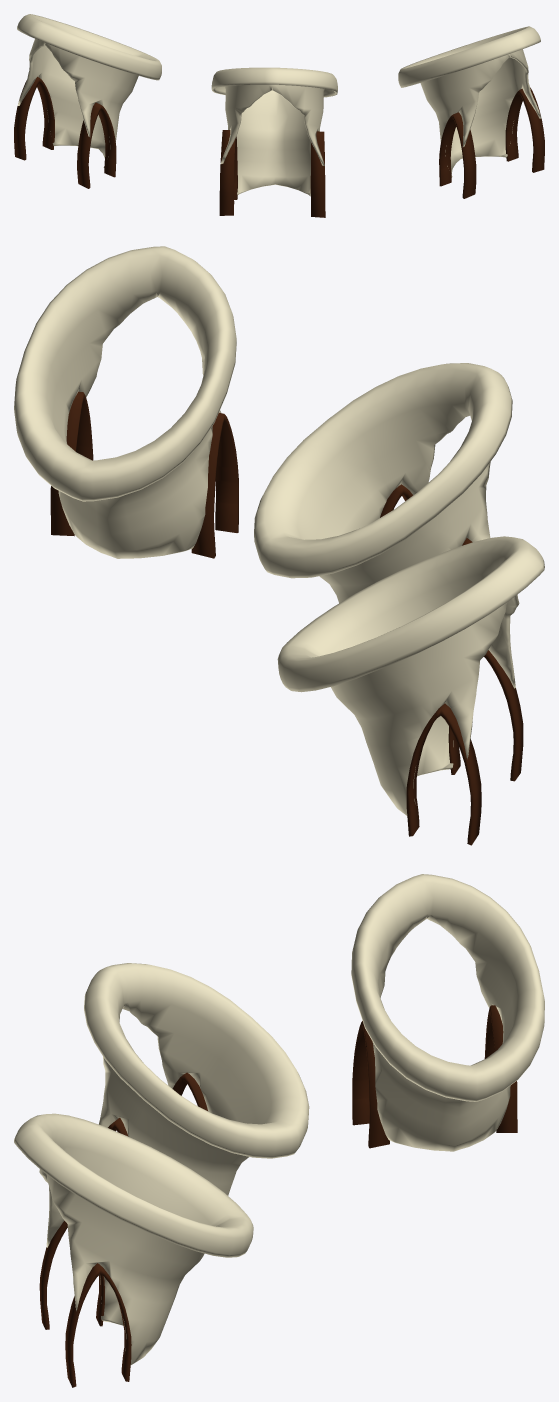
File: LillyStationsLvl2.fbx
The picture shows the model from 3 angles, top to bottom: view 1: azimuth 30°, elevation 25°; view 2: azimuth 150°, elevation 25°; view 3: azimuth 270°, elevation 25°; orthographic projection. The views are drawn at different scales.
Parts seen in each view (by area): view 1: LillyCup.Lvl2.004, LillyCup.Lvl2.008, LillyCup.Lvl2; view 2: LillyCup.Lvl2, LillyCup.Lvl2.008, LillyCup.Lvl2.004; view 3: LillyCup.Lvl2.008, LillyCup.Lvl2.004, LillyCup.Lvl2.
Boxes of the visible parts, x1,y1,x2,y2 form: LillyCup.Lvl2.004: [211, 67, 337, 217]; LillyCup.Lvl2.008: [14, 14, 161, 188]; LillyCup.Lvl2: [398, 26, 544, 198]; LillyCup.Lvl2: [14, 246, 238, 558]; LillyCup.Lvl2.008: [277, 536, 544, 845]; LillyCup.Lvl2.004: [254, 363, 512, 603]; LillyCup.Lvl2.008: [351, 874, 544, 1151]; LillyCup.Lvl2.004: [84, 963, 309, 1195]; LillyCup.Lvl2: [14, 1113, 253, 1387].
Size of the model in its own units: 1839 by 683 by 1418.
